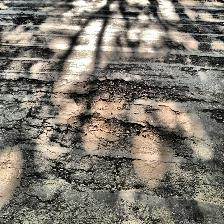pothole: (71, 78, 152, 112), (66, 113, 158, 141)
